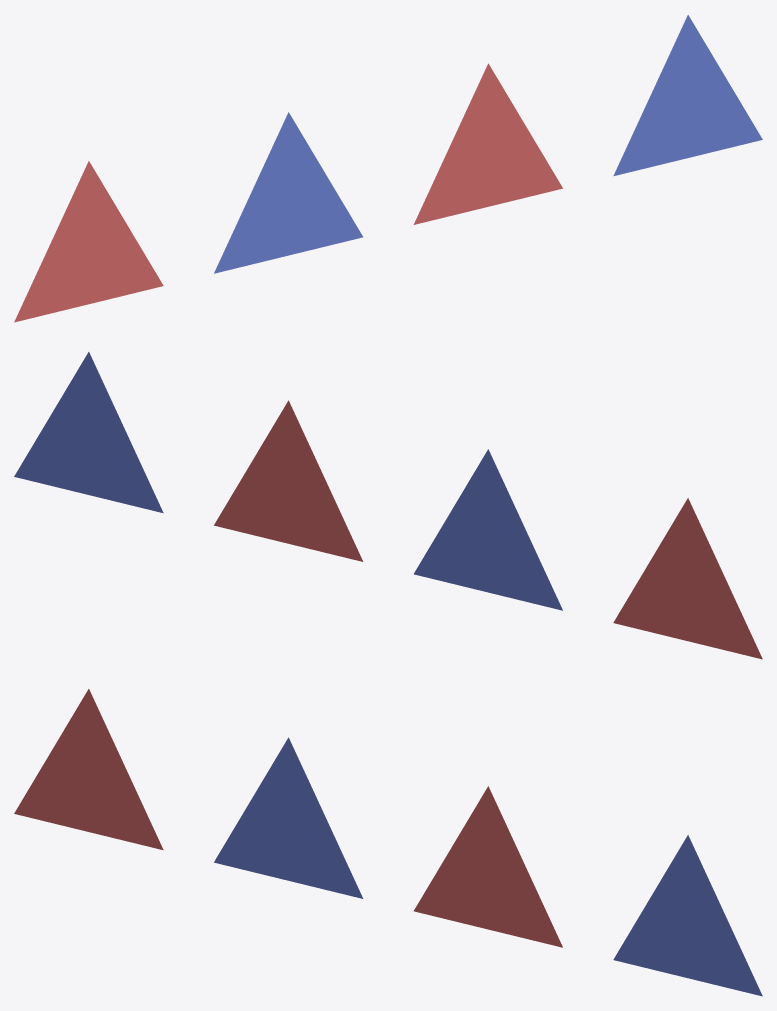
Rendered from parts.gltf.
3 renders of one model, top to bottom at view 1: azimuth 30°, elevation 25°; view 2: azimuth 150°, elevation 25°; view 3: azimuth 330°, elevation 25°, orthographic.
Visible parts, largest first — view 1: Dup (×2), PartA, PartB; view 2: Dup (×2), PartA, PartB; view 3: Dup (×2), PartB, PartA.
Boxes of the visible parts, x1,y1,x2,y2 form: Dup (×2): (413, 15, 762, 224); PartA: (14, 161, 163, 322); PartB: (214, 112, 362, 273); Dup (×2): (14, 352, 363, 561); PartA: (613, 498, 762, 659); PartB: (414, 449, 562, 610); Dup (×2): (414, 786, 762, 996); PartB: (214, 737, 363, 898); PartA: (14, 689, 163, 850).
Size of the model in its own units: 3 by 0.55 by 0.
